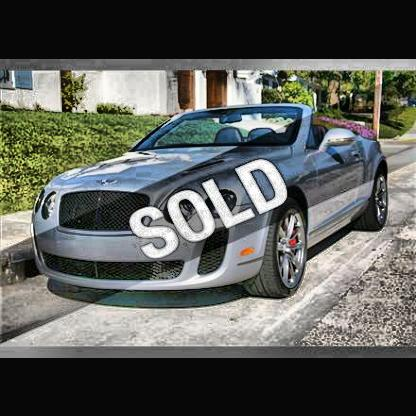Bentley Continental Supersports Conv- Convertible 2012: (30, 103, 393, 299)
